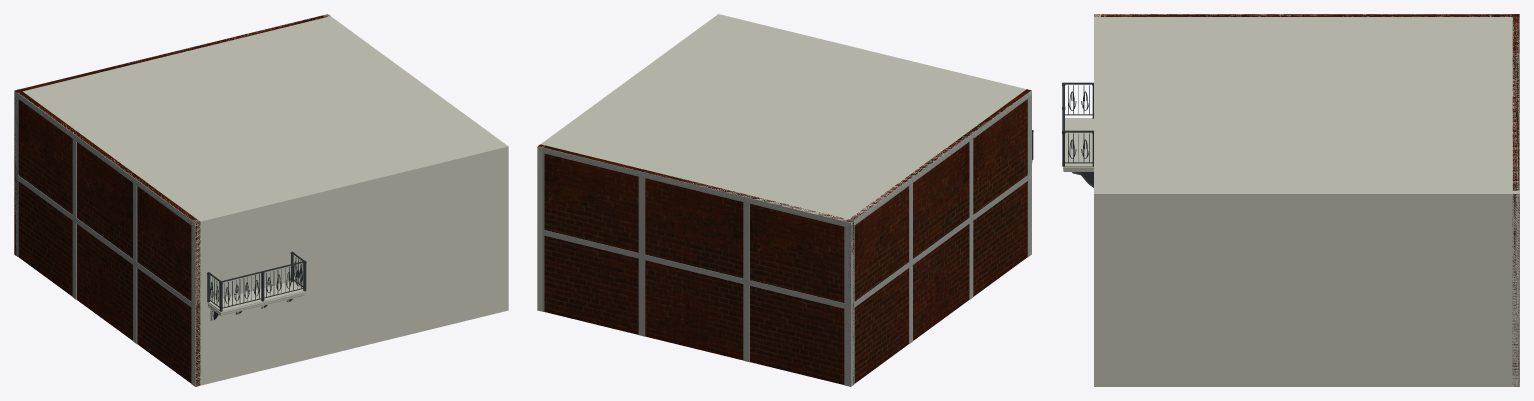
The model's file is building.glb.
3 views of the same model, side by side, from view 1: azimuth 30°, elevation 25°; view 2: azimuth 150°, elevation 25°; view 3: azimuth 270°, elevation 25° (orthographic). The views are drawn at different scales.
Parts seen in each view (by area): view 1: roof/house:0/roof_slab#0001, house:0/edge0/z0/house:0/edge0/z0/wall_0_0, house:0/edge3/z0/house:0/edge3/z0/wall_0_0, house:0/edge2/z0/house:0/edge2/z0/wall_0_0, house:0/edge3/z0/house:0/edge3/z0/beam_0_0, house:0/edge3/z0/house:0/edge3/z0/beam_1_0, house:0/edge1/z0/house:0/edge1/z0/wall_0_0, balcony/sample/balcony_platform#0001, balcony/sample/balcony_fascia#0001; view 2: roof/house:0/roof_slab#0001, house:0/edge2/z0/house:0/edge2/z0/wall_0_0, house:0/edge3/z0/house:0/edge3/z0/wall_0_0, house:0/edge1/z0/house:0/edge1/z0/wall_0_0, house:0/edge2/z0/house:0/edge2/z0/beam_0_0, house:0/edge2/z0/house:0/edge2/z0/beam_1_0, house:0/edge3/z0/house:0/edge3/z0/beam_0_0, house:0/edge0/z0/house:0/edge0/z0/wall_0_0, house:0/edge3/z0/house:0/edge3/z0/beam_1_0, house:0/edge2/z0/house:0/edge2/z0/column_2_0, house:0/edge2/z0/house:0/edge2/z0/column_1_1, house:0/edge2/z0/house:0/edge2/z0/column_2_1 (+3 smaller); view 3: house:0/edge1/z0/house:0/edge1/z0/wall_0_0, roof/house:0/roof_slab#0001, house:0/edge0/z0/house:0/edge0/z0/wall_0_0, house:0/edge2/z0/house:0/edge2/z0/wall_0_0, balcony/sample/balcony_platform#0001, house:0/edge3/z0/house:0/edge3/z0/wall_0_0.
Boxes of the visible parts, box(x1,y1,x2,y2) form: roof/house:0/roof_slab#0001: box(16, 15, 507, 225); house:0/edge0/z0/house:0/edge0/z0/wall_0_0: box(192, 144, 508, 386); house:0/edge3/z0/house:0/edge3/z0/wall_0_0: box(17, 89, 200, 386); house:0/edge2/z0/house:0/edge2/z0/wall_0_0: box(14, 14, 329, 255); house:0/edge3/z0/house:0/edge3/z0/beam_0_0: box(14, 173, 195, 309); house:0/edge3/z0/house:0/edge3/z0/beam_1_0: box(14, 91, 195, 228); house:0/edge1/z0/house:0/edge1/z0/wall_0_0: box(323, 14, 508, 311); balcony/sample/balcony_platform#0001: box(208, 281, 304, 312); balcony/sample/balcony_fascia#0001: box(207, 291, 305, 315); roof/house:0/roof_slab#0001: box(540, 14, 1031, 225); house:0/edge2/z0/house:0/edge2/z0/wall_0_0: box(538, 144, 853, 384); house:0/edge3/z0/house:0/edge3/z0/wall_0_0: box(846, 89, 1030, 383); house:0/edge1/z0/house:0/edge1/z0/wall_0_0: box(537, 14, 721, 311); house:0/edge2/z0/house:0/edge2/z0/beam_0_0: box(542, 230, 851, 310); house:0/edge2/z0/house:0/edge2/z0/beam_1_0: box(538, 146, 851, 228); house:0/edge3/z0/house:0/edge3/z0/beam_0_0: box(850, 172, 1031, 309); house:0/edge0/z0/house:0/edge0/z0/wall_0_0: box(716, 14, 1031, 253); house:0/edge3/z0/house:0/edge3/z0/beam_1_0: box(850, 90, 1031, 227); house:0/edge2/z0/house:0/edge2/z0/column_2_0: box(638, 177, 645, 254); house:0/edge2/z0/house:0/edge2/z0/column_1_1: box(844, 227, 851, 304); house:0/edge2/z0/house:0/edge2/z0/column_2_1: box(638, 259, 645, 336); house:0/edge1/z0/house:0/edge1/z0/wall_0_0: box(1094, 191, 1519, 386); roof/house:0/roof_slab#0001: box(1094, 14, 1519, 198); house:0/edge0/z0/house:0/edge0/z0/wall_0_0: box(1094, 14, 1100, 386); house:0/edge2/z0/house:0/edge2/z0/wall_0_0: box(1512, 14, 1519, 386); balcony/sample/balcony_platform#0001: box(1064, 118, 1093, 167); house:0/edge3/z0/house:0/edge3/z0/wall_0_0: box(1094, 14, 1519, 16).
Size of the model in its own units: 12 by 6 by 12.89.
4 materials, 1 textured.
